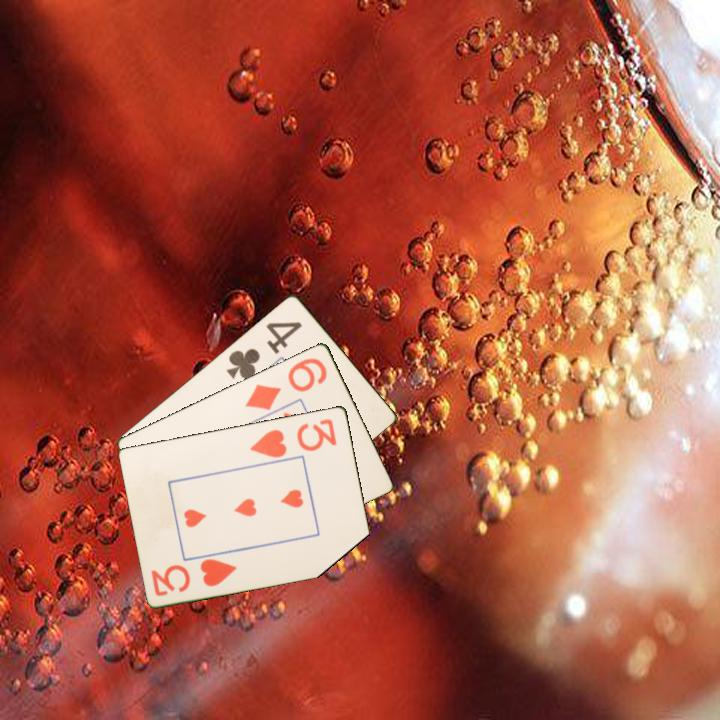3h: (247, 415, 340, 460), (148, 555, 240, 599)
4c: (223, 317, 305, 382)
6d: (241, 354, 330, 413)
